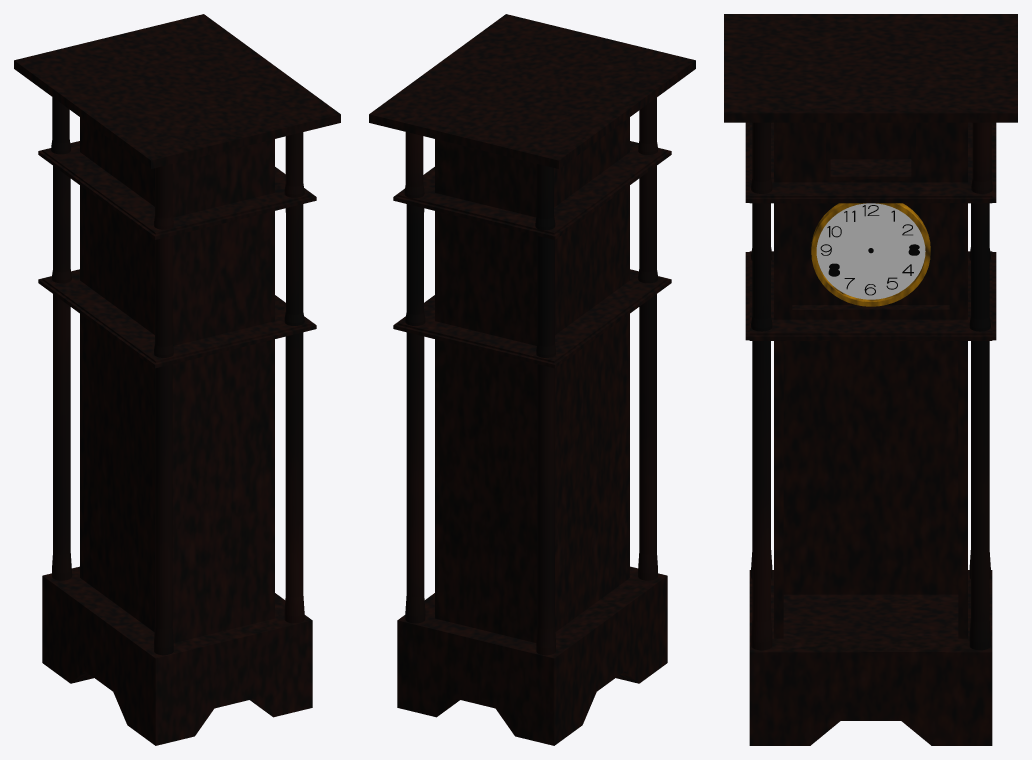
File: big_ben_no_object.fbx
The picture shows the model from 3 angles, left to right: view 1: azimuth 30°, elevation 25°; view 2: azimuth 150°, elevation 25°; view 3: azimuth 270°, elevation 25°; orthographic projection. The views are drawn at different scales.
Parts seen in each view (by area): view 1: big_ben_no_object_Baked; view 2: big_ben_no_object_Baked; view 3: big_ben_no_object_Baked.
Part boxes in pixels (x1,y1,x2,y2): big_ben_no_object_Baked: [14, 14, 340, 745]; big_ben_no_object_Baked: [369, 14, 695, 745]; big_ben_no_object_Baked: [724, 14, 1017, 745].
Size of the model in its own units: 72.6 by 219 by 90.75.
1 material, 1 textured.
